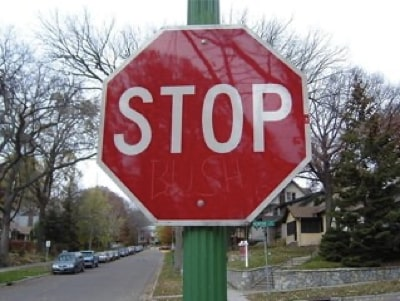StopSign: (95, 22, 313, 229)
